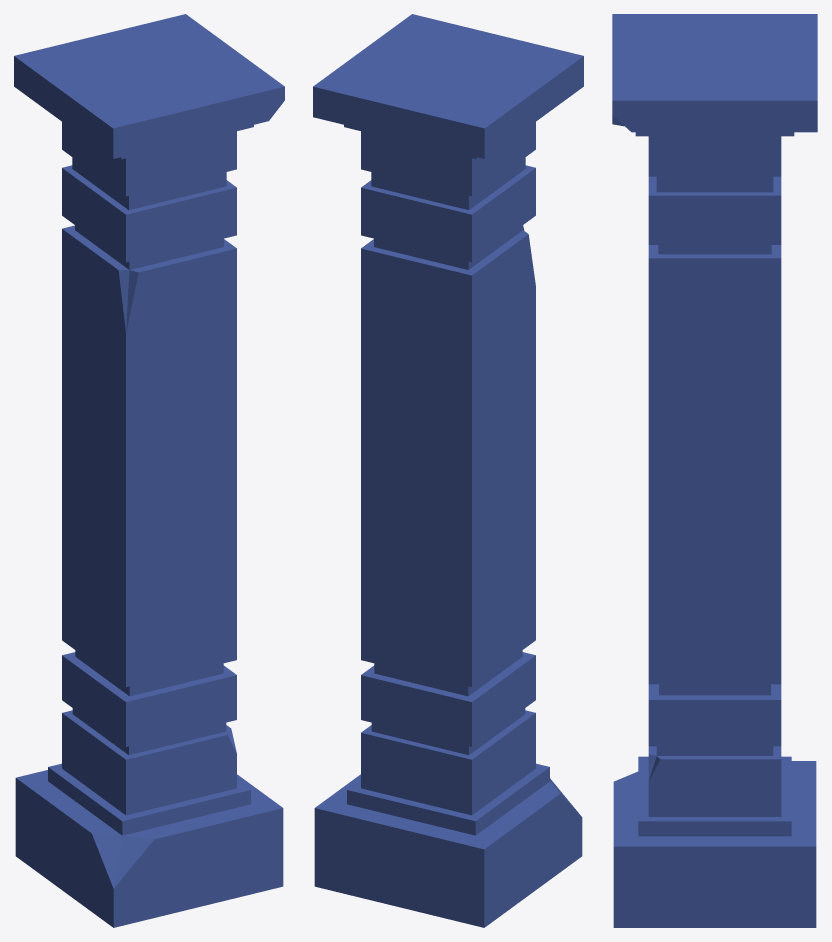
File: pillar01.fbx
The picture shows the model from 3 angles, left to right: view 1: azimuth 30°, elevation 25°; view 2: azimuth 150°, elevation 25°; view 3: azimuth 270°, elevation 25°; orthographic projection. The views are drawn at different scales.
Parts seen in each view (by area): view 1: Pillar_03; view 2: Pillar_03; view 3: Pillar_03.
Boxes of the visible parts, x1,y1,x2,y2 form: Pillar_03: (14, 14, 284, 927); Pillar_03: (313, 14, 583, 927); Pillar_03: (612, 14, 817, 927).
Size of the model in its own units: 89.19 by 397 by 89.19.
